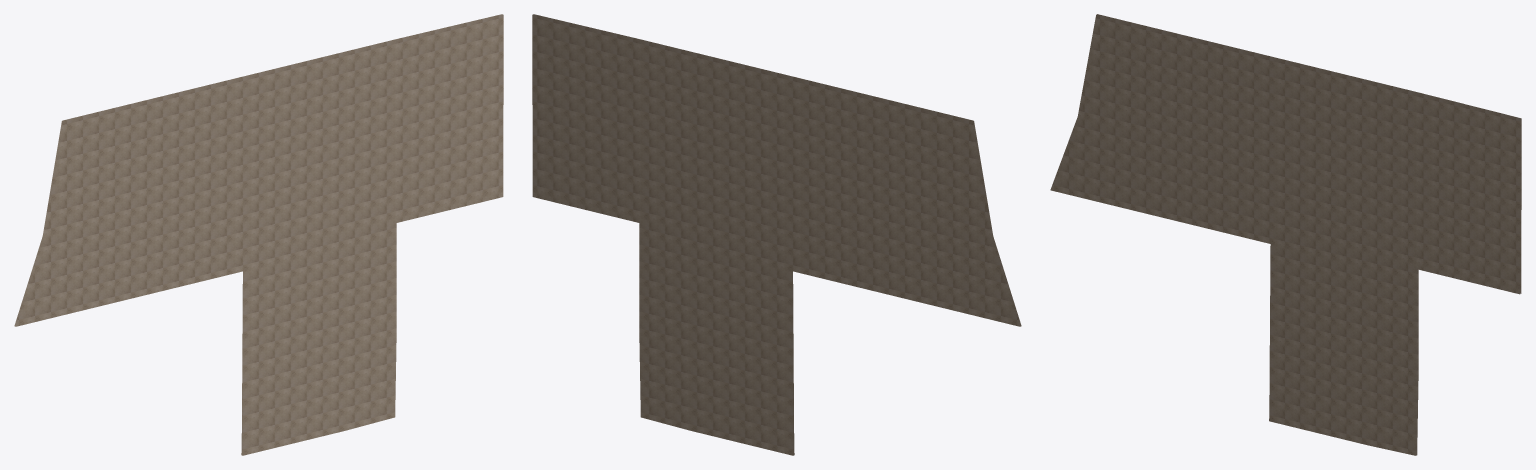
The model's file is floor_48.obj.
3 views of the same model, side by side, from view 1: azimuth 30°, elevation 25°; view 2: azimuth 150°, elevation 25°; view 3: azimuth 330°, elevation 25° (orthographic). The views are drawn at different scales.
Visible parts, largest first — view 1: floor_48; view 2: floor_48; view 3: floor_48.
Part boxes in pixels (left/top/right/bottom): floor_48: left=14, top=14, right=503, bottom=455; floor_48: left=532, top=14, right=1021, bottom=455; floor_48: left=1050, top=14, right=1521, bottom=455.
Bounding box in the file's own units: 30.54 × 22.61 × 0.1.
Materials: 1 (1 with a texture image).
